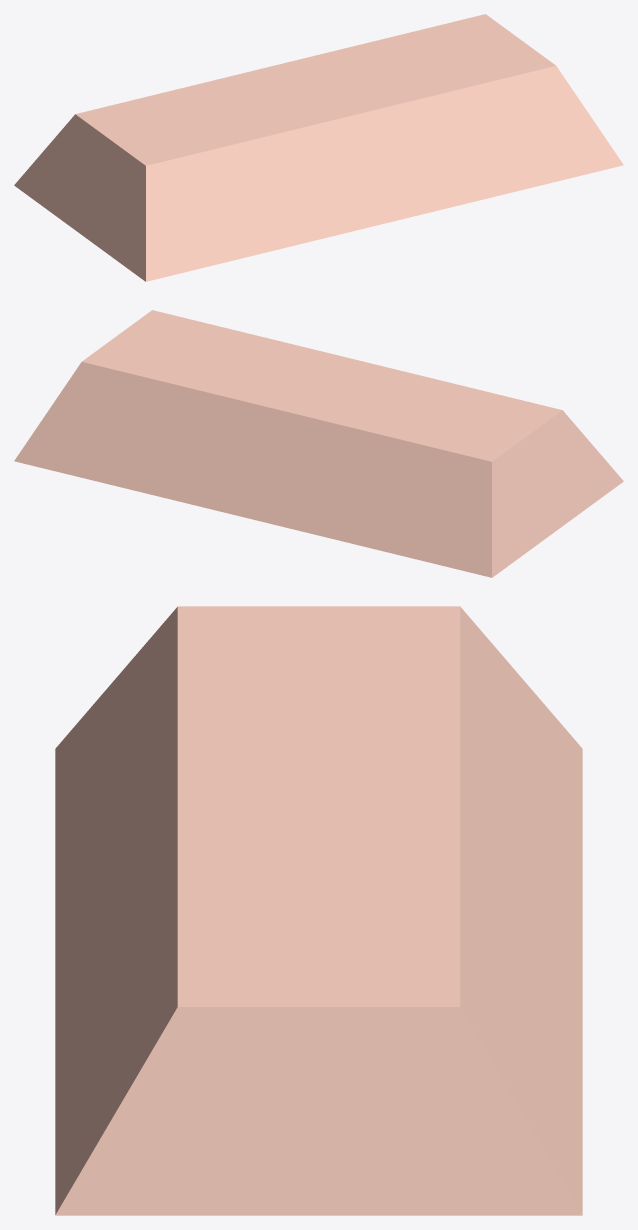
Rendered from IronBar.fbx.
3 views of the same model, one above another, from view 1: azimuth 30°, elevation 25°; view 2: azimuth 150°, elevation 25°; view 3: azimuth 270°, elevation 25° (orthographic). The views are drawn at different scales.
Visible parts, largest first — view 1: Bar; view 2: Bar; view 3: Bar.
Boxes of the visible parts, x1=… form: Bar: x1=14, y1=14, x2=623, y2=281; Bar: x1=14, y1=310, x2=623, y2=577; Bar: x1=55, y1=606, x2=582, y2=1215.
Size of the model in its own units: 189 by 32.47 by 90.06.
